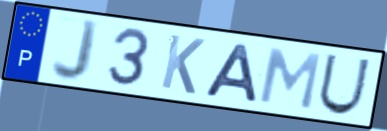3: (106, 26, 152, 88)
A: (200, 42, 261, 105)
J: (49, 17, 102, 84)
K: (158, 32, 207, 97)
M: (256, 46, 324, 113)
U: (315, 52, 373, 117)
